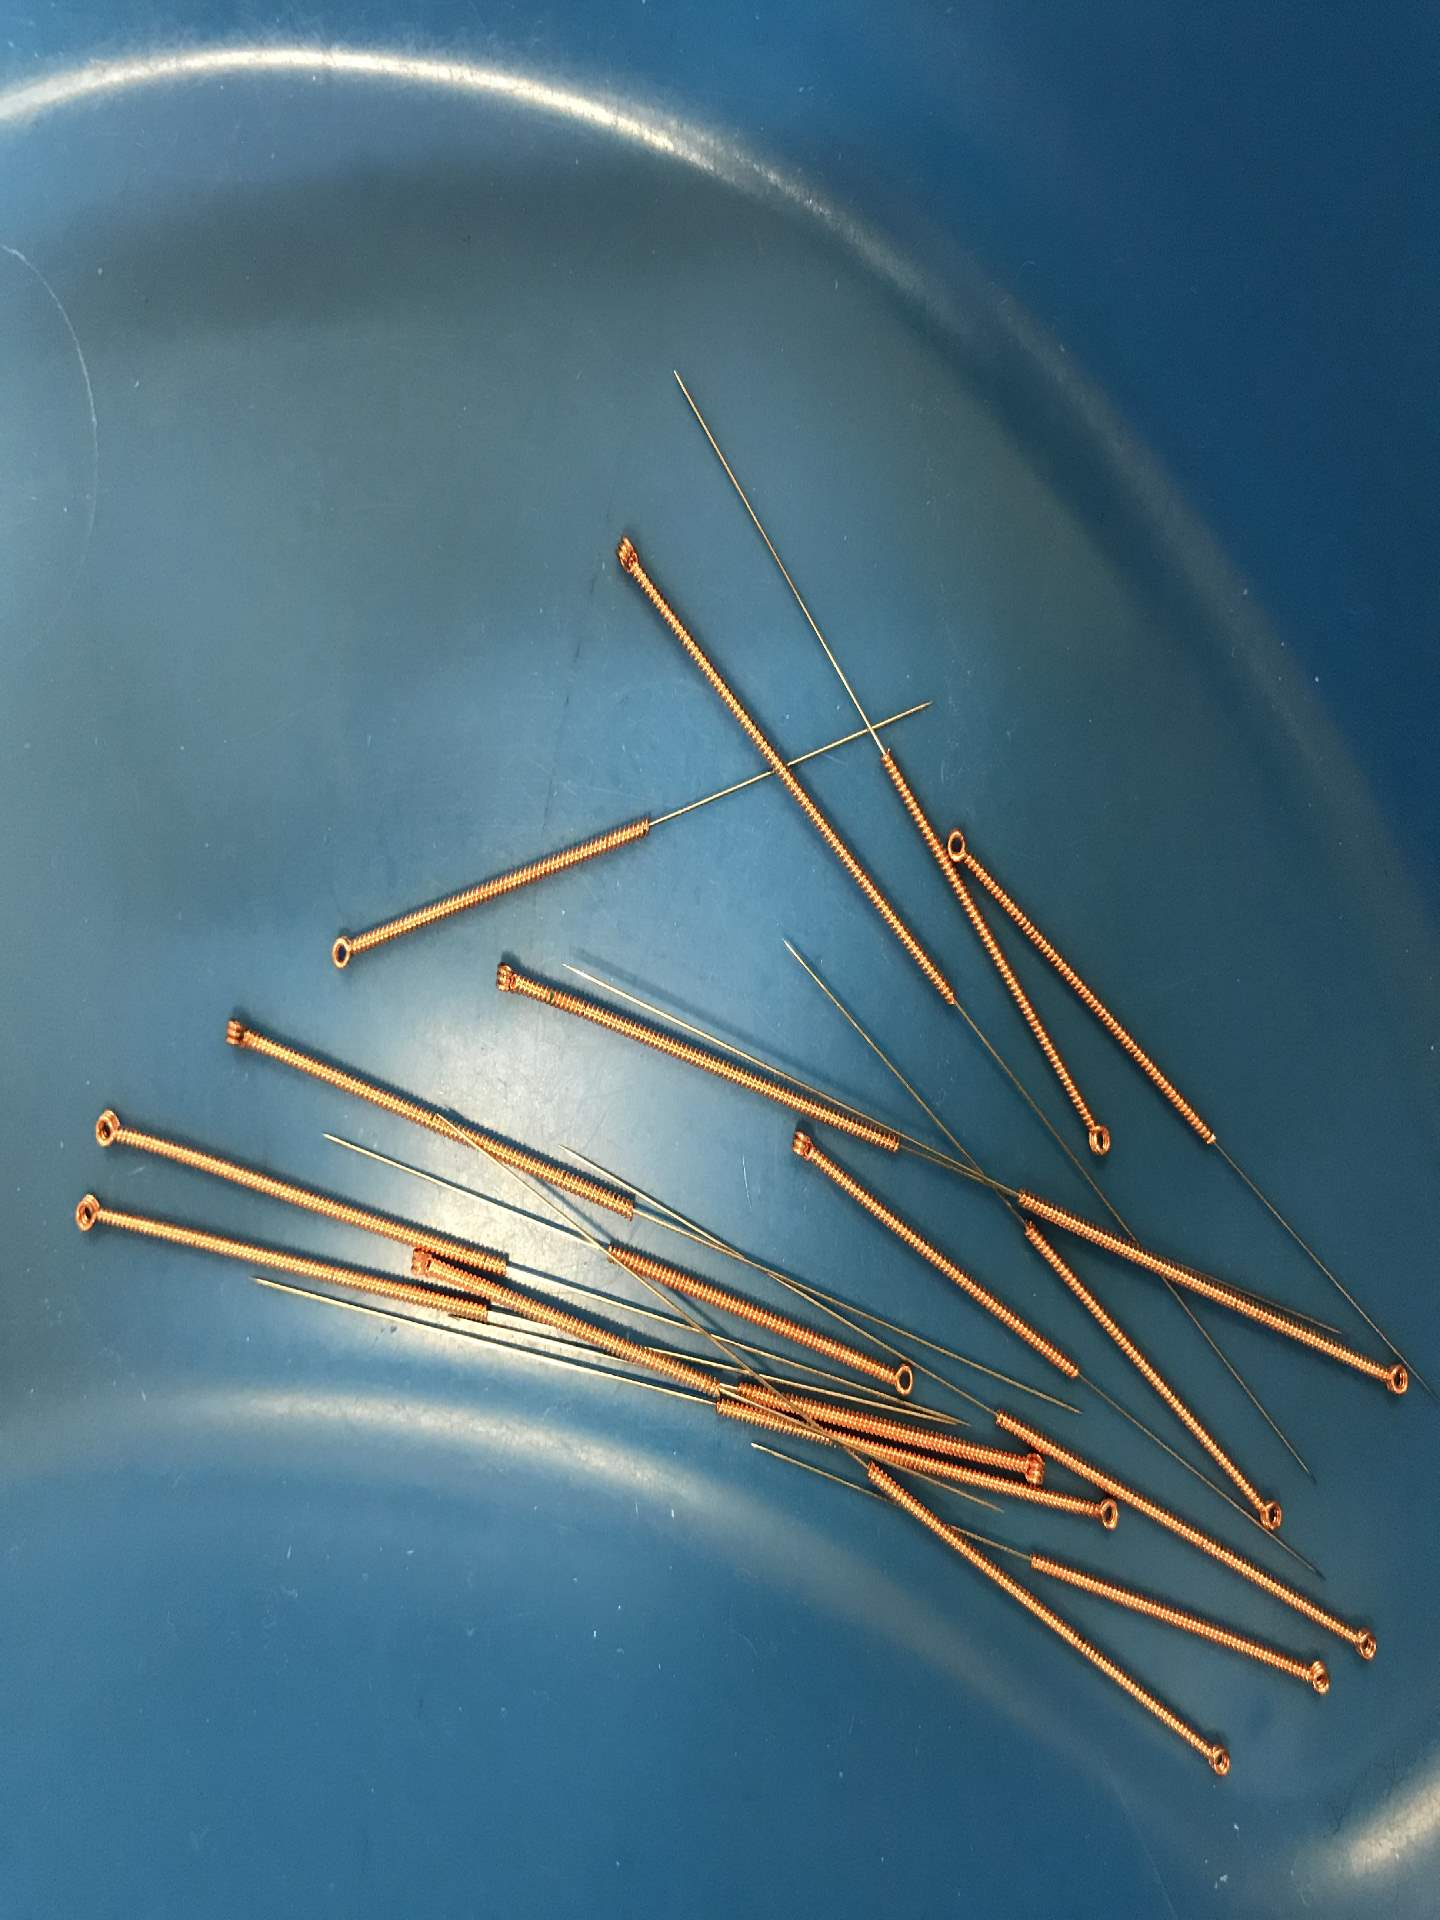needle: (77, 1098, 135, 1160), (1072, 1107, 1122, 1172), (212, 1005, 262, 1067), (602, 522, 647, 590), (319, 921, 368, 983), (61, 1187, 112, 1244), (1339, 1616, 1387, 1674), (481, 949, 528, 1008), (1248, 1486, 1295, 1542), (1293, 1649, 1339, 1707), (1372, 1353, 1419, 1407), (877, 1355, 926, 1404), (1193, 1733, 1240, 1784), (781, 1120, 823, 1173), (1077, 1492, 1125, 1538), (1010, 1445, 1050, 1488), (402, 1246, 445, 1284), (945, 827, 979, 869)
